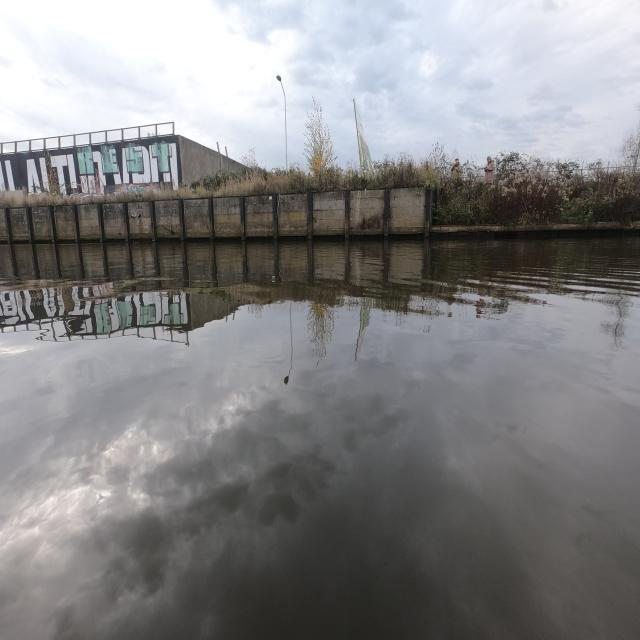dock: (430, 221, 640, 234)
sky: (2, 6, 638, 162)
wall: (18, 160, 436, 238)
water: (10, 266, 632, 632)
